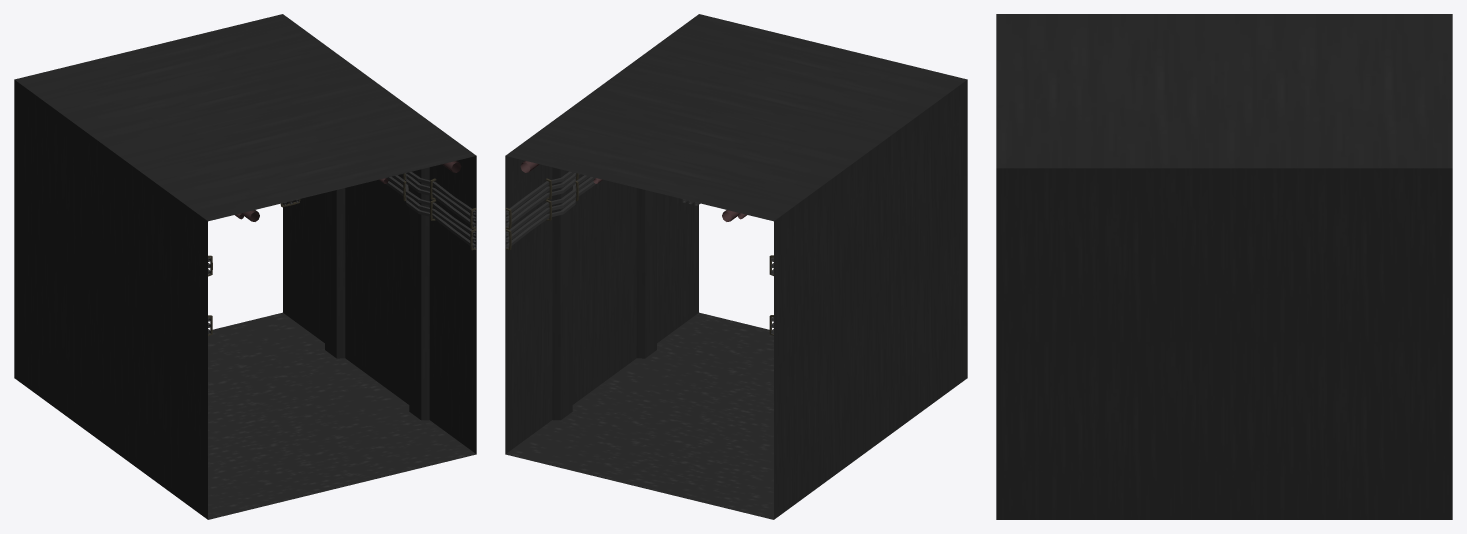
Rendered from SW_ENV_RailTunnel_B_01_Single_05m_FF.fbx.
3 renders of one model, left to right at view 1: azimuth 30°, elevation 25°; view 2: azimuth 150°, elevation 25°; view 3: azimuth 270°, elevation 25°, orthographic. The views are drawn at different scales.
Parts seen in each view (by area): view 1: SW_ENV_RailTunnel_B_01_Single_05m_FF; view 2: SW_ENV_RailTunnel_B_01_Single_05m_FF; view 3: SW_ENV_RailTunnel_B_01_Single_05m_FF.
Part boxes in pixels (x1=…): SW_ENV_RailTunnel_B_01_Single_05m_FF: x1=14, y1=14, x2=476, y2=519; SW_ENV_RailTunnel_B_01_Single_05m_FF: x1=505, y1=14, x2=967, y2=519; SW_ENV_RailTunnel_B_01_Single_05m_FF: x1=996, y1=14, x2=1452, y2=519.
Bounding box in the file's own units: 4 × 4.25 × 5.
